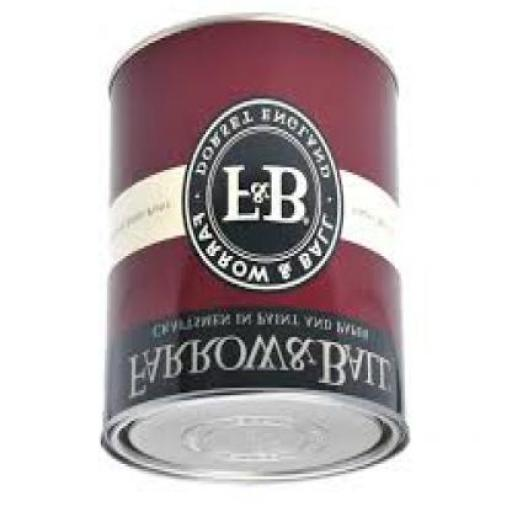metal: (97, 23, 409, 484)
